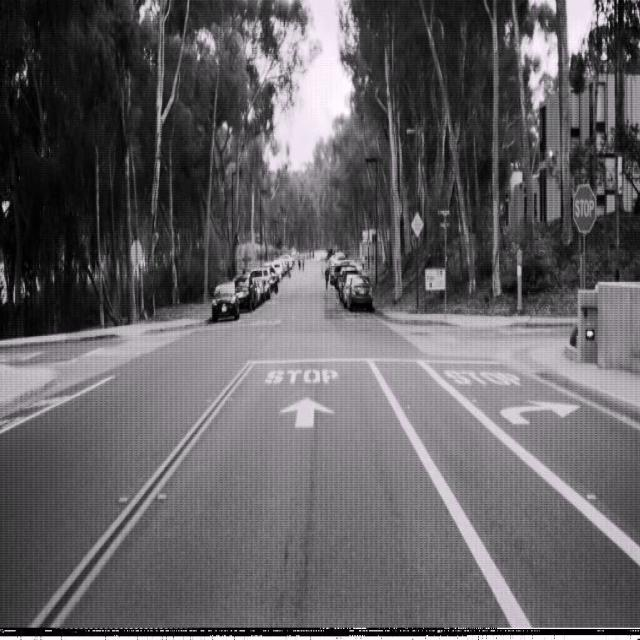stop_sign: (572, 183, 597, 234)
